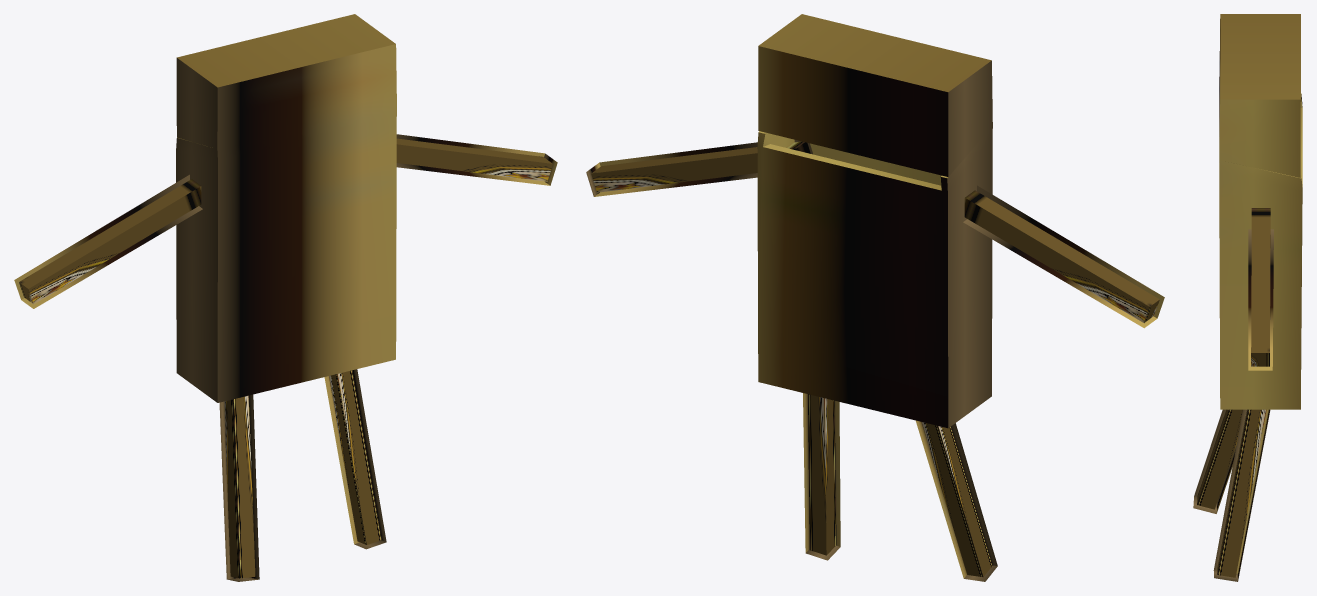
File: icon1.ico.obj
The picture shows the model from 3 angles, left to right: view 1: azimuth 30°, elevation 25°; view 2: azimuth 150°, elevation 25°; view 3: azimuth 270°, elevation 25°; orthographic projection. The views are drawn at different scales.
Bounding box in the file's own units: 4.29 × 3.85 × 0.7771.
